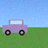vehicle: (3, 20, 27, 35)
